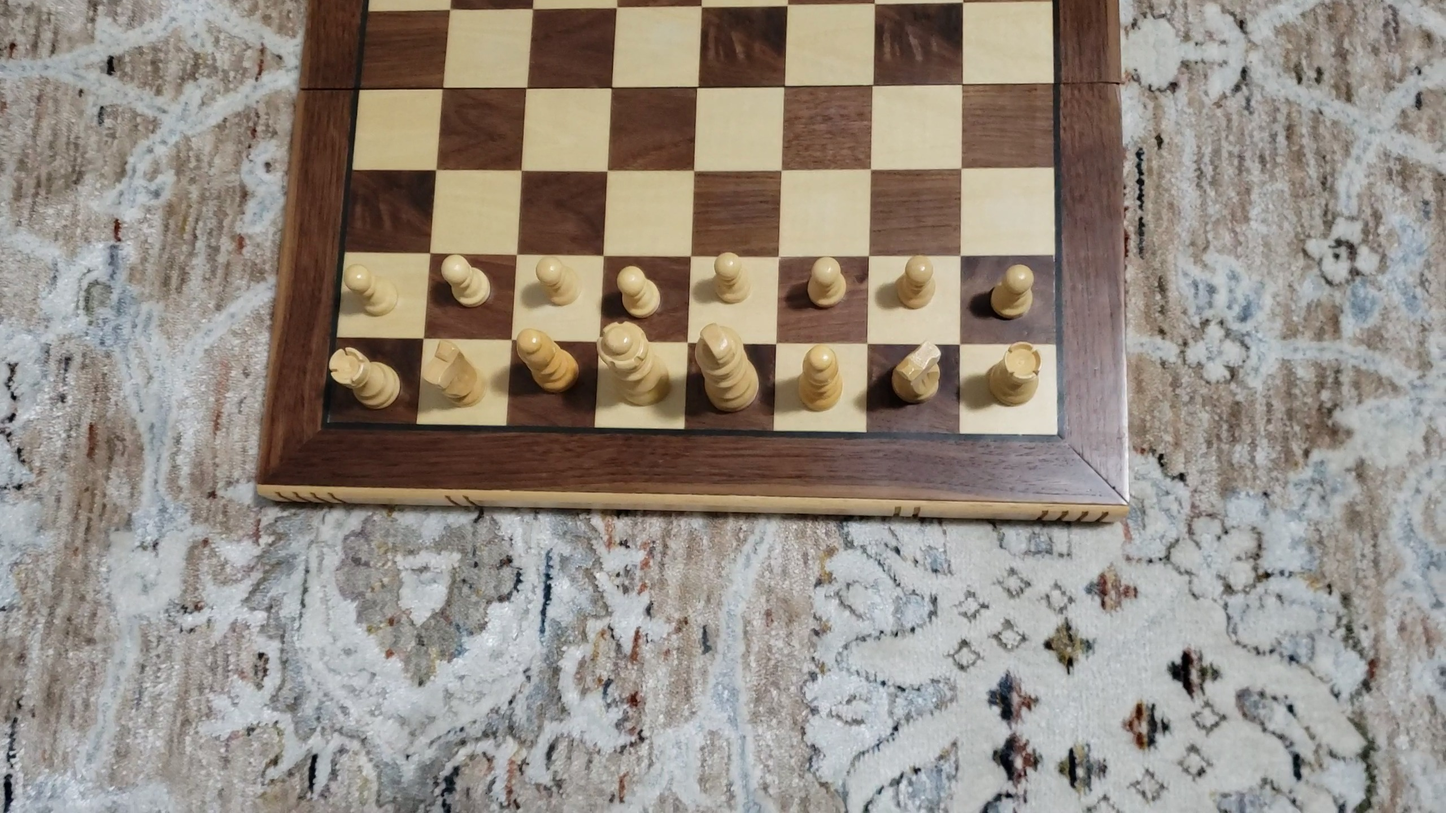white-bishop: (512, 326, 580, 396), (795, 342, 847, 416)
white-king: (691, 319, 764, 417)
white-knight: (425, 335, 487, 410), (887, 337, 946, 407)
white-pawn: (978, 259, 1042, 325), (340, 260, 402, 320), (436, 251, 494, 310), (890, 250, 940, 314), (801, 252, 852, 312), (530, 253, 583, 309), (614, 262, 663, 322), (707, 247, 754, 308)
white-queen: (594, 318, 676, 410)
white-rook: (330, 343, 401, 412), (982, 338, 1047, 411)
